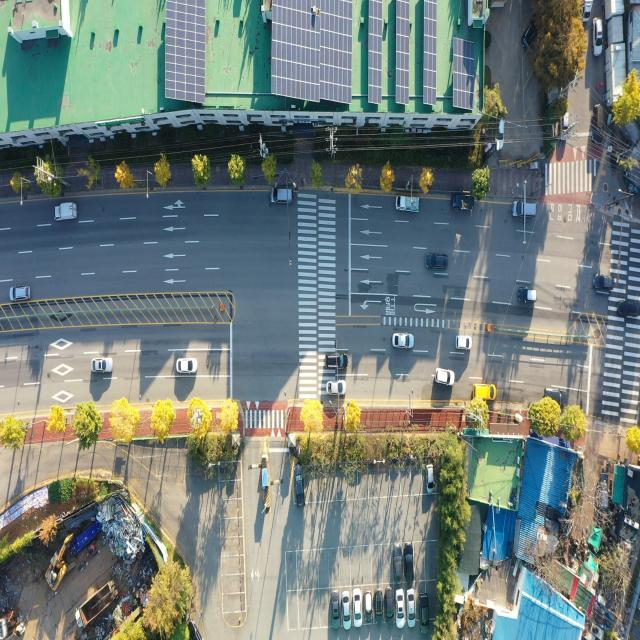car: (544, 387, 570, 409), (325, 352, 349, 372), (512, 201, 537, 219), (472, 384, 497, 402), (395, 588, 405, 632), (592, 103, 602, 145), (522, 20, 536, 50), (406, 586, 416, 627), (294, 466, 304, 506), (330, 589, 340, 629), (272, 187, 294, 203), (594, 19, 603, 57), (428, 253, 449, 269), (619, 300, 640, 316), (393, 545, 402, 581), (385, 588, 394, 624), (437, 369, 456, 386), (177, 357, 197, 373), (496, 116, 505, 151), (343, 590, 351, 628), (406, 544, 414, 582), (392, 335, 412, 350), (594, 275, 614, 290), (560, 110, 570, 140), (10, 286, 30, 300), (93, 358, 113, 372), (518, 289, 538, 303), (354, 590, 362, 625), (421, 592, 429, 626), (376, 589, 384, 622), (364, 590, 372, 622), (326, 382, 344, 395), (455, 337, 471, 351), (427, 466, 434, 494)
medium_truck: (76, 579, 120, 629)
small_truck: (56, 203, 78, 222), (395, 197, 419, 214), (452, 196, 476, 213), (583, 0, 593, 22)
